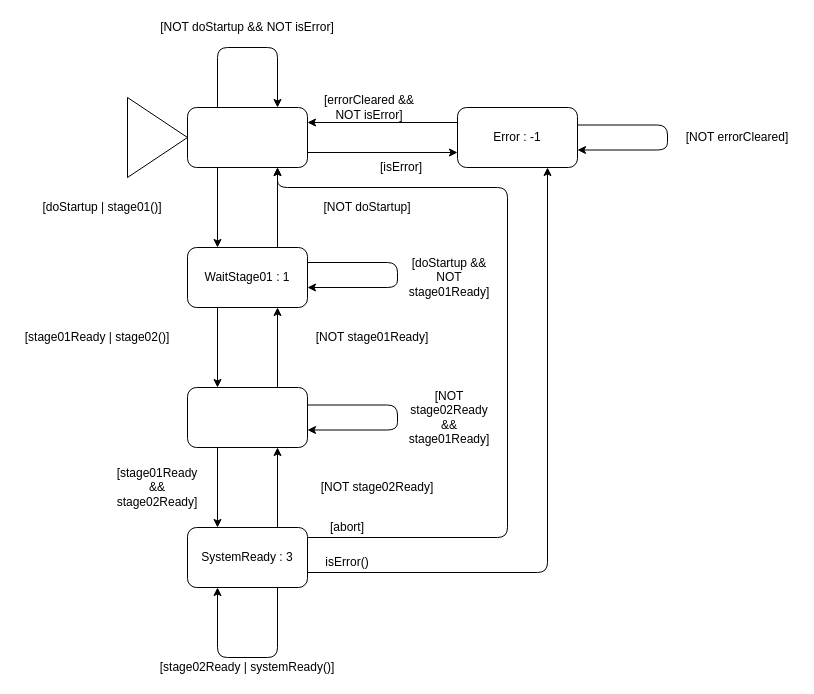
This 814x694 diagram has some shape labels left out. The centre of each missing label's shape, as x and y in pixels:
Idle : 0: point 247,137
WaitStage02 : 2: point 247,417
